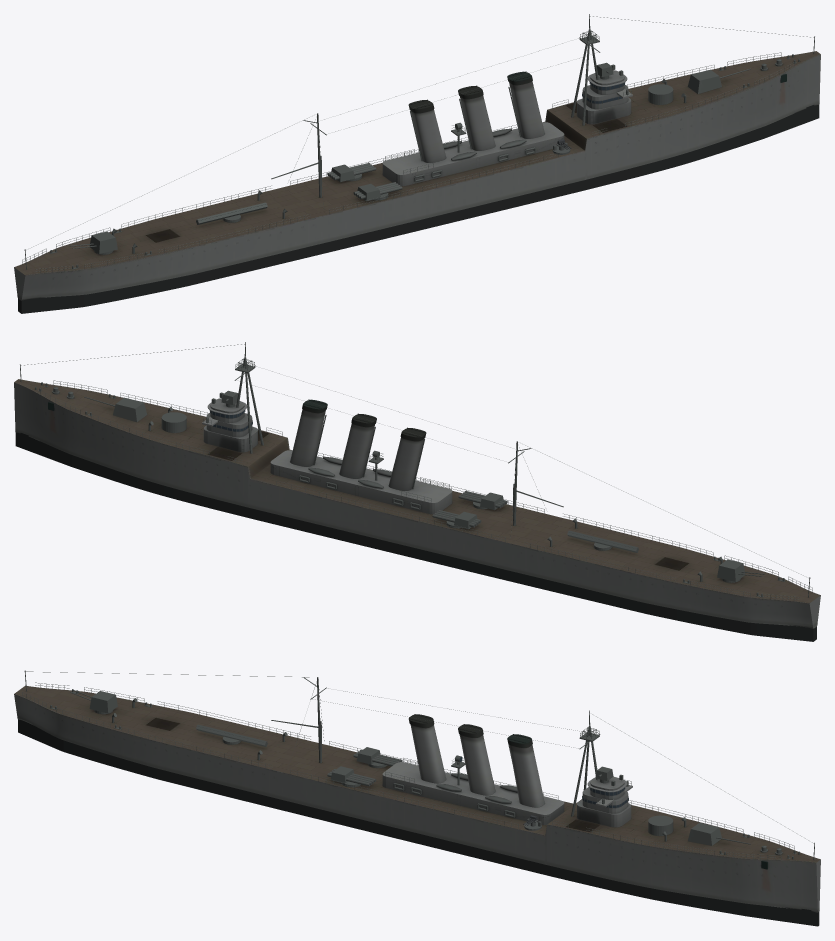
File: abukuma-cl.glb
The picture shows the model from 3 angles, top to bottom: view 1: azimuth 30°, elevation 25°; view 2: azimuth 150°, elevation 25°; view 3: azimuth 330°, elevation 25°; orthographic projection.
Parts seen in each view (by area): view 1: abukuma-cl_dark, Skirt, Kit_turret-140mm-single; view 2: abukuma-cl_dark, Skirt, Kit_turret-140mm-single; view 3: abukuma-cl_dark, Skirt, Kit_turret-140mm-single, Kit_mount-127mm-twin-ijn.
Part boxes in pixels (<box>): abukuma-cl_dark: <box>14,14,820,300</box>; Skirt: <box>18,105,819,313</box>; Kit_turret-140mm-single: <box>687,69,721,93</box>; abukuma-cl_dark: <box>14,342,820,628</box>; Skirt: <box>15,432,816,641</box>; Kit_turret-140mm-single: <box>113,397,147,421</box>; abukuma-cl_dark: <box>14,670,820,912</box>; Skirt: <box>18,719,819,926</box>; Kit_turret-140mm-single: <box>688,822,721,845</box>; Kit_mount-127mm-twin-ijn: <box>89,691,117,714</box>.
Bounding box in the file's own units: 162 × 30.91 × 14.83.
Materials: 4 (1 with a texture image).
